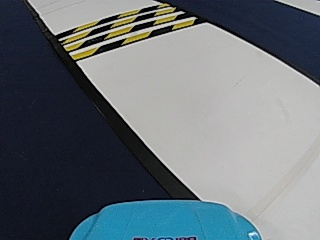bump: (67, 7, 181, 60)
